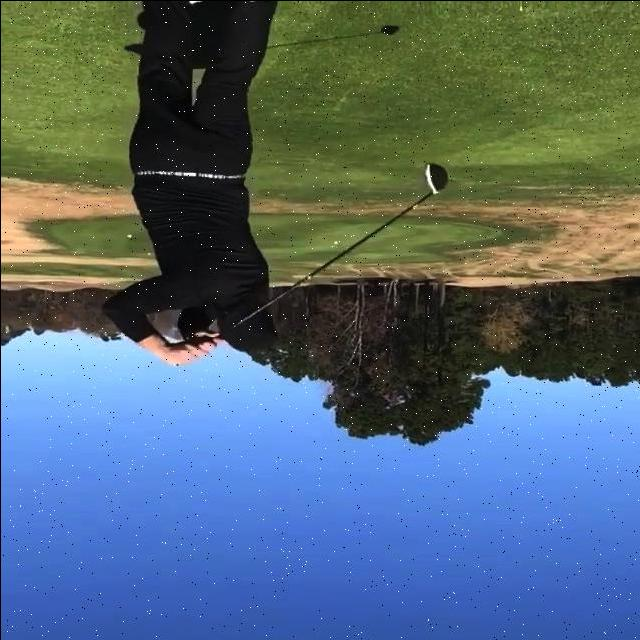golf club-handle: (218, 162, 447, 336)
golf club-head: (424, 162, 447, 192)
